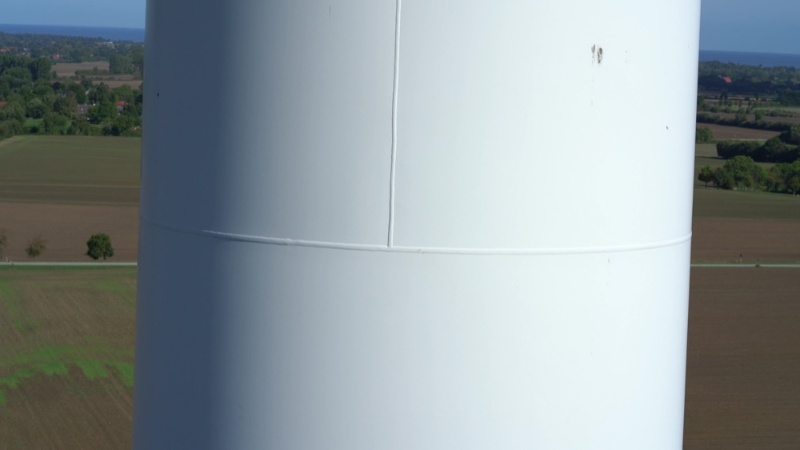weldseam: (136, 209, 693, 261), (382, 2, 404, 255)
